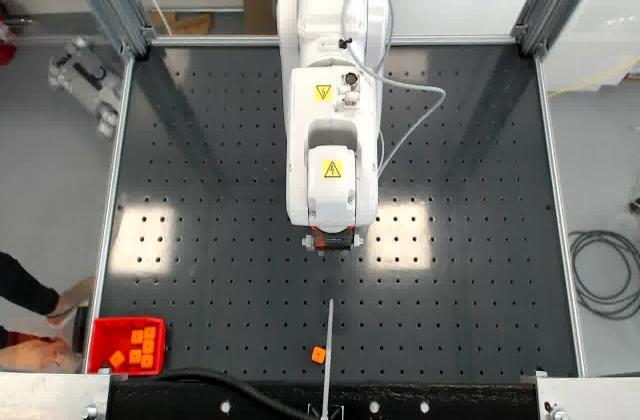cube: (312, 346, 326, 364)
